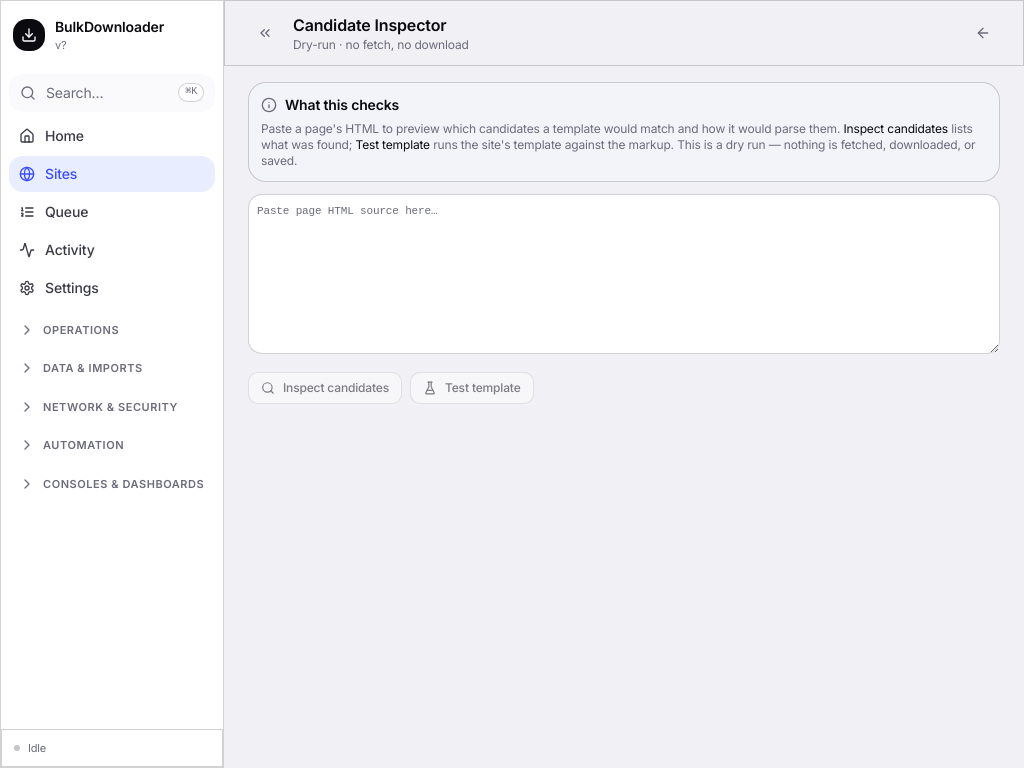
DryRunInspector stb-fix F1 selector hit-counts › a flat array (legacy shape) still renders
The image size is (1024, 768).
Type "<a class='dl' href='/d/1080'>Download</a>" into the text box with placeholder "Paste page HTML source here…" at (624, 274), box [248,194,1000,354]
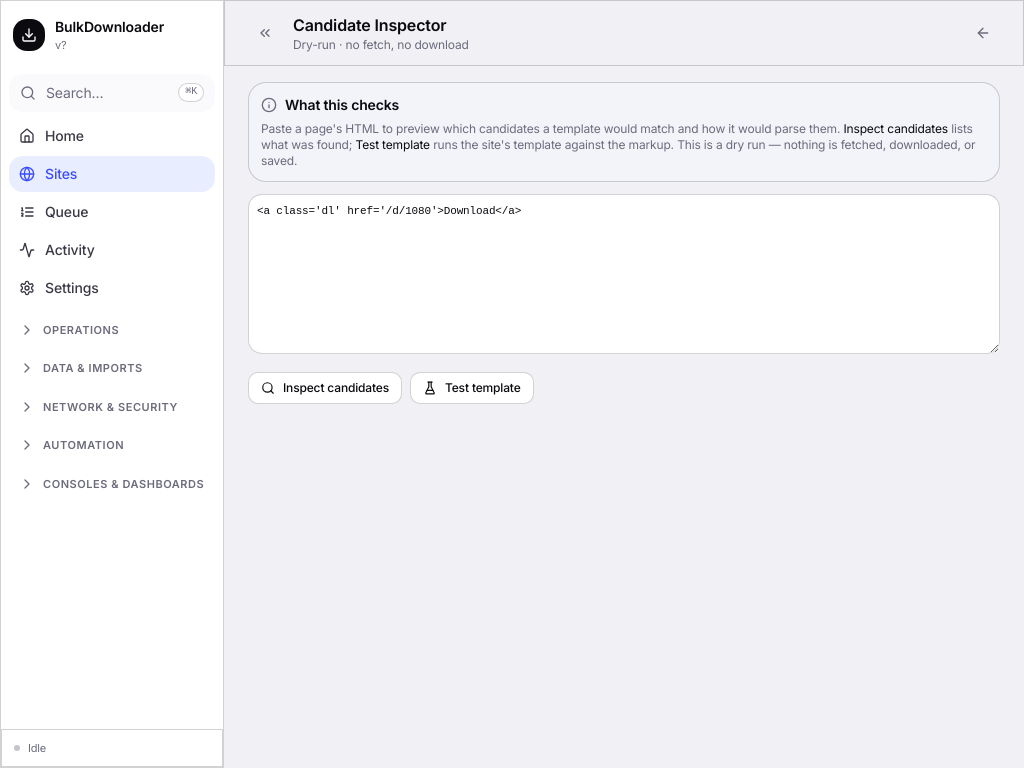
Click the button "Test template" at (472, 388), box [410,372,534,404]
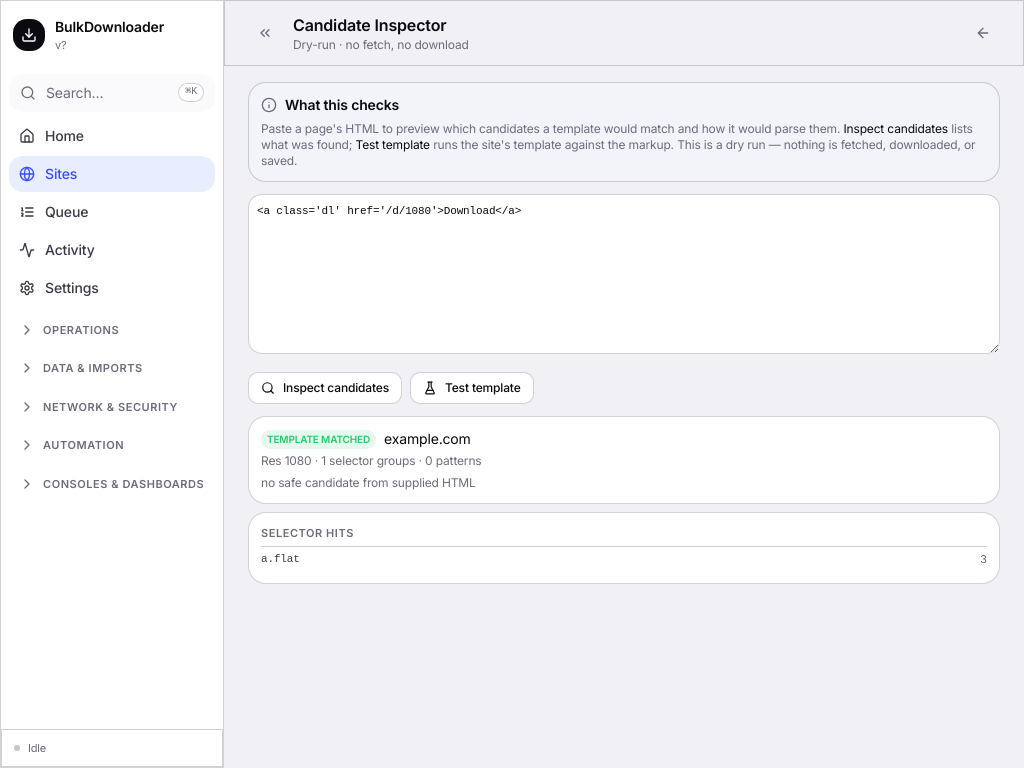
Expected: the text "Selector hits" is shown, [261,526,354,540]
Expected: the text "a.flat" is shown, [261,550,300,567]
Expected: the text "3" is shown, [980,550,987,567]
